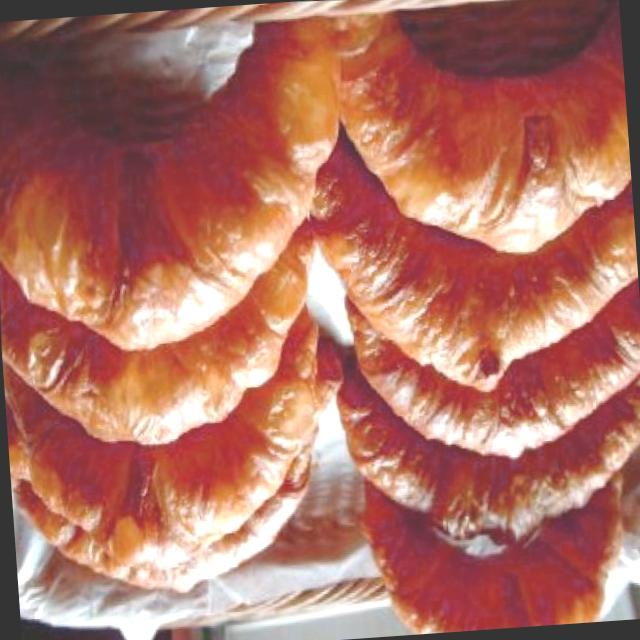Croissant: (0, 23, 366, 368)
